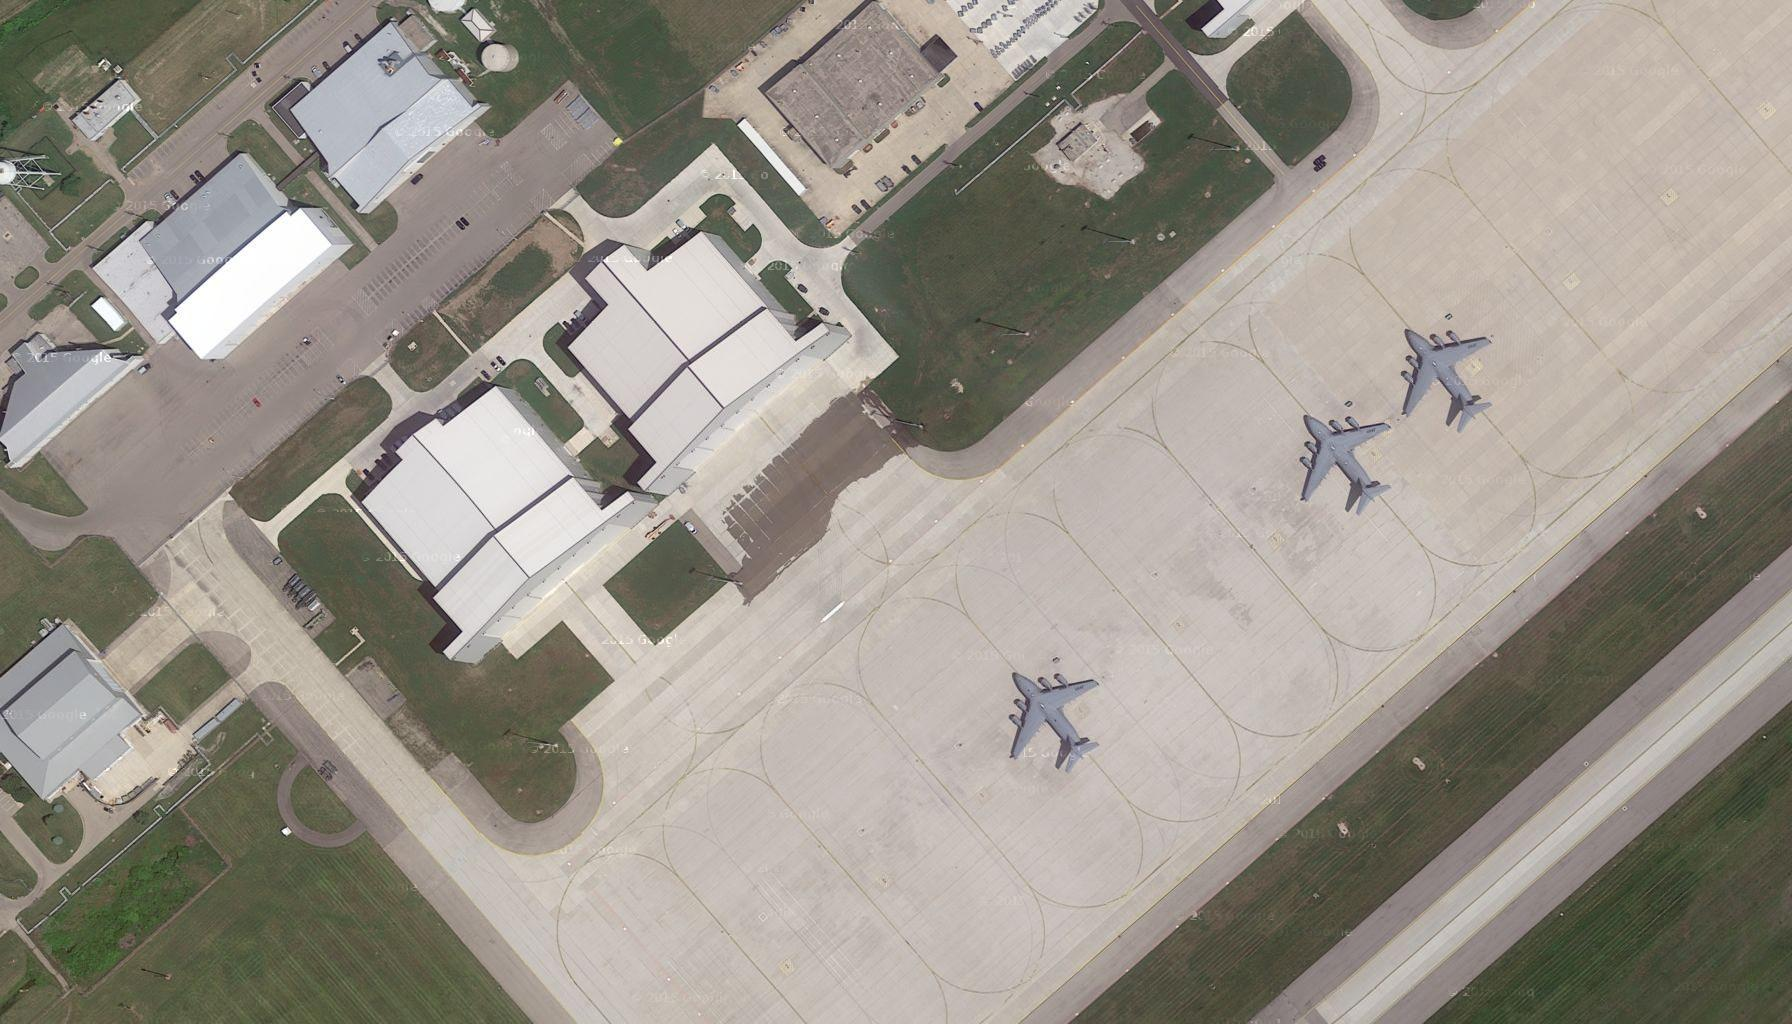C-17: (1287, 407, 1403, 521), (1392, 325, 1504, 438), (999, 666, 1102, 774)
